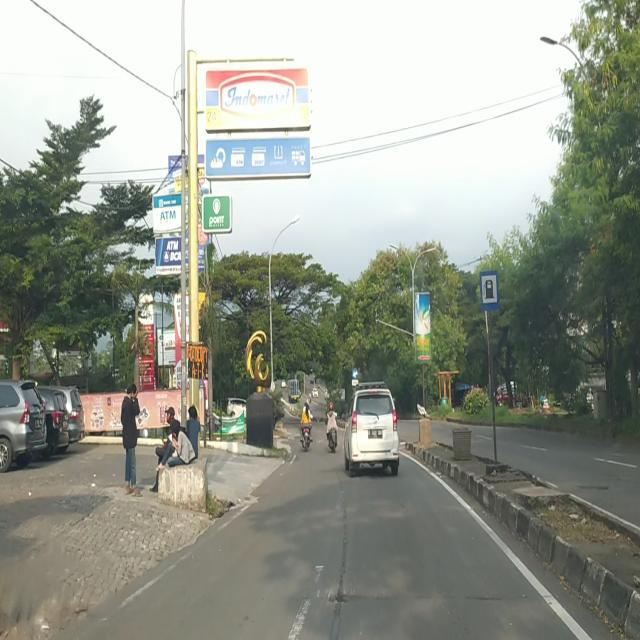Sewer Cover: (325, 588, 541, 605)
